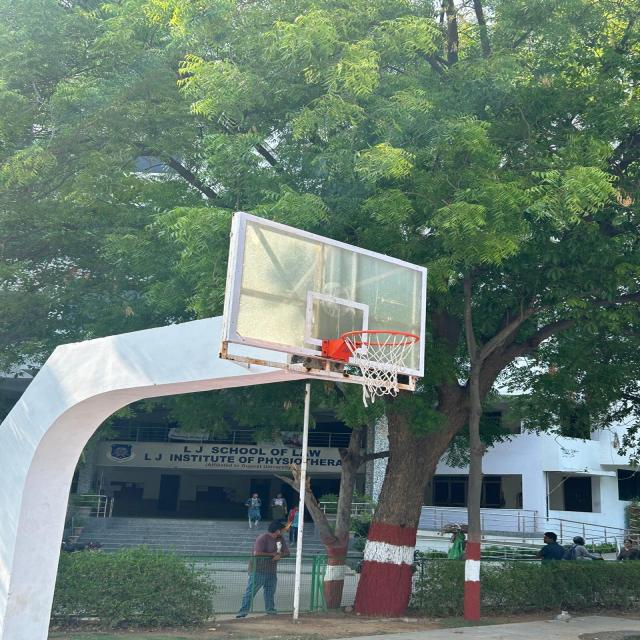hoop: (313, 322, 444, 418)
